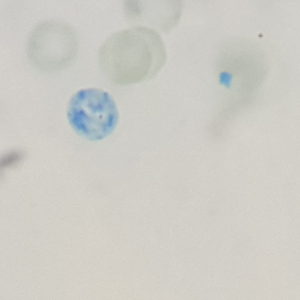aggregate reticulocyte: (64, 85, 120, 142)
erythrocyte: (211, 34, 271, 95), (111, 25, 168, 83), (96, 28, 151, 87), (26, 17, 81, 75)
